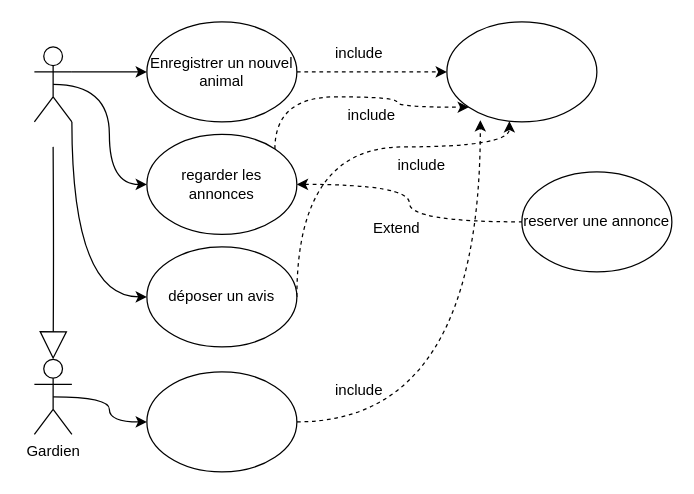
Image size: 694x494. Some labels were removed from this diagram. Here are the shapes that lost their labels. From the top down, the centre of each, then its label:
point (52, 84): Personne
point (521, 71): s'authentifier
point (221, 421): déposer une annonces
